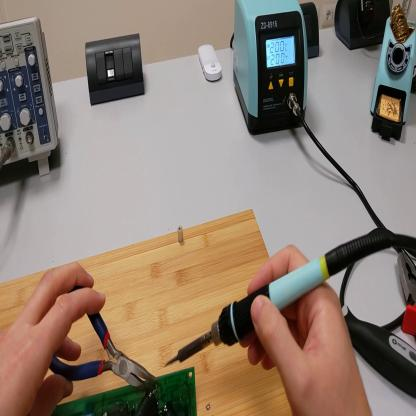hand: (242, 244, 374, 416), (1, 262, 109, 415)
high voltage board: (56, 363, 197, 415)
oscilloscope: (2, 16, 61, 178)
pliers: (42, 295, 160, 391), (400, 249, 416, 338)
screwdriver-: (341, 304, 416, 403)
socket: (335, 3, 392, 53), (301, 2, 321, 59)
welder base: (369, 3, 416, 147)
welder probe tip: (164, 230, 389, 370)
welder station: (233, 2, 309, 136)
working area: (3, 209, 296, 416)
